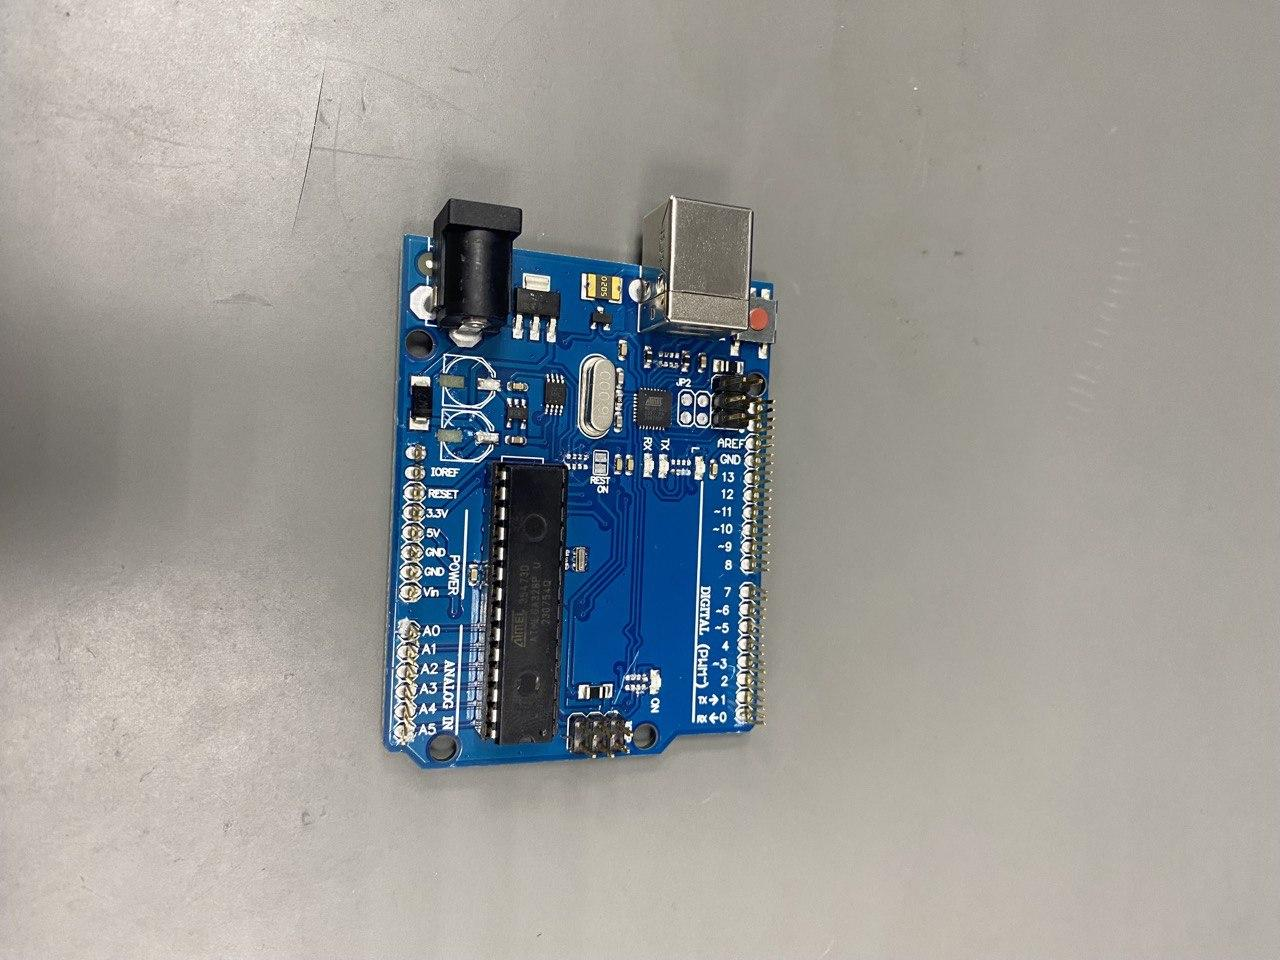ATmega328 chip: (472, 462, 569, 744)
Arduino board: (382, 194, 777, 769)
USB: (637, 195, 754, 341)
